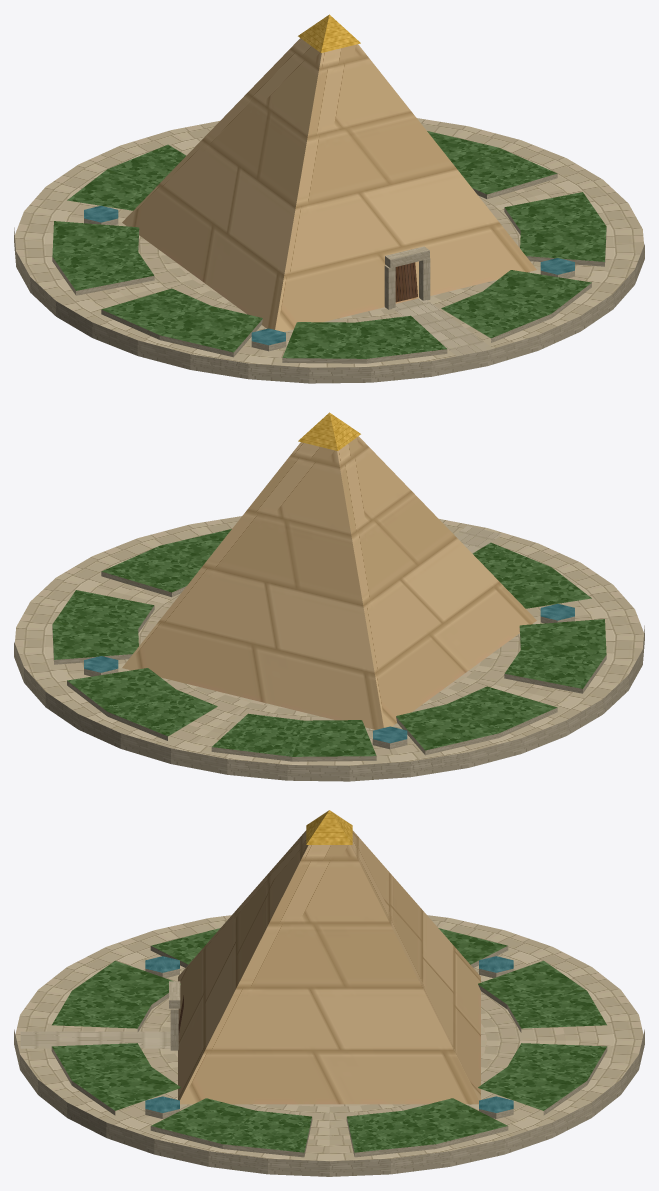
Rendered from pyramid_large_lod1.glb.
3 renders of one model, top to bottom at view 1: azimuth 30°, elevation 25°; view 2: azimuth 150°, elevation 25°; view 3: azimuth 270°, elevation 25°, orthographic.
Parts seen in each view (by area): view 1: pyramid_large_lod1; view 2: pyramid_large_lod1; view 3: pyramid_large_lod1.
Part boxes in pixels (x1,y1,x2,y2): pyramid_large_lod1: (14, 14, 644, 383); pyramid_large_lod1: (14, 412, 644, 781); pyramid_large_lod1: (14, 810, 644, 1176).
Size of the model in its own units: 1.89 by 0.779 by 1.9.
1 material, 1 textured.
